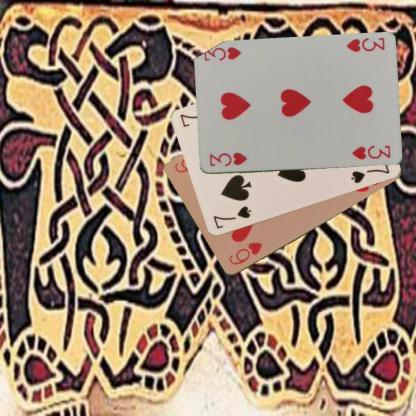3h: (343, 35, 386, 54), (207, 150, 248, 168)
6h: (226, 239, 263, 267)
7s: (210, 204, 252, 231)
